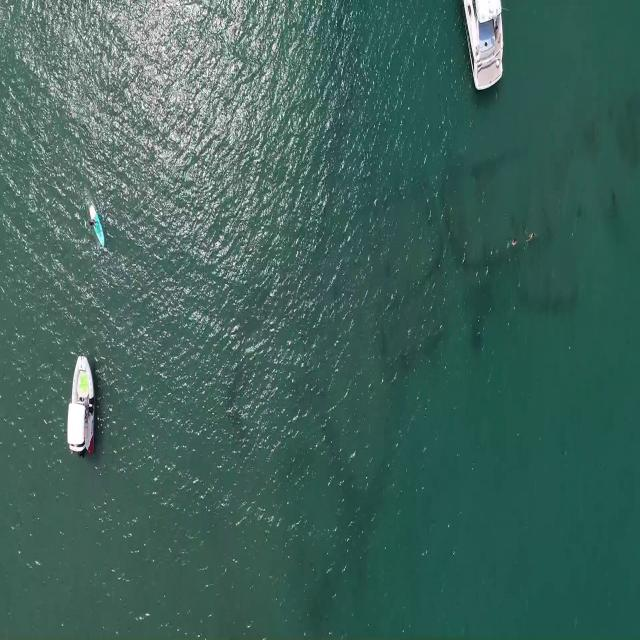boat: (461, 0, 506, 91), (65, 343, 97, 464)
person: (526, 231, 540, 245), (87, 216, 99, 230), (511, 237, 518, 247)
surfboard: (88, 200, 104, 251)
